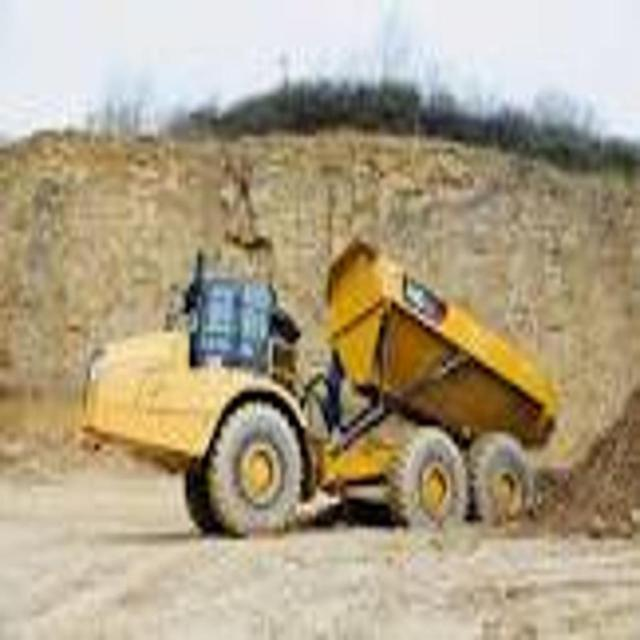dump_truck: (78, 229, 560, 564)
